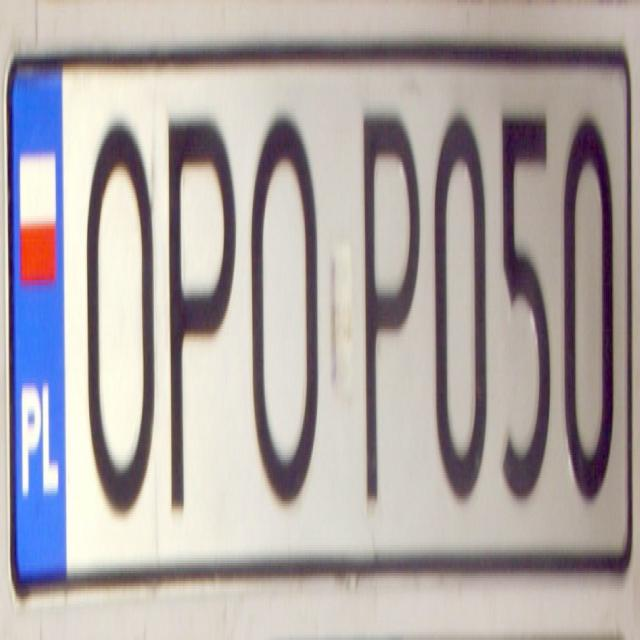pl_license_plate: (9, 59, 630, 571)
